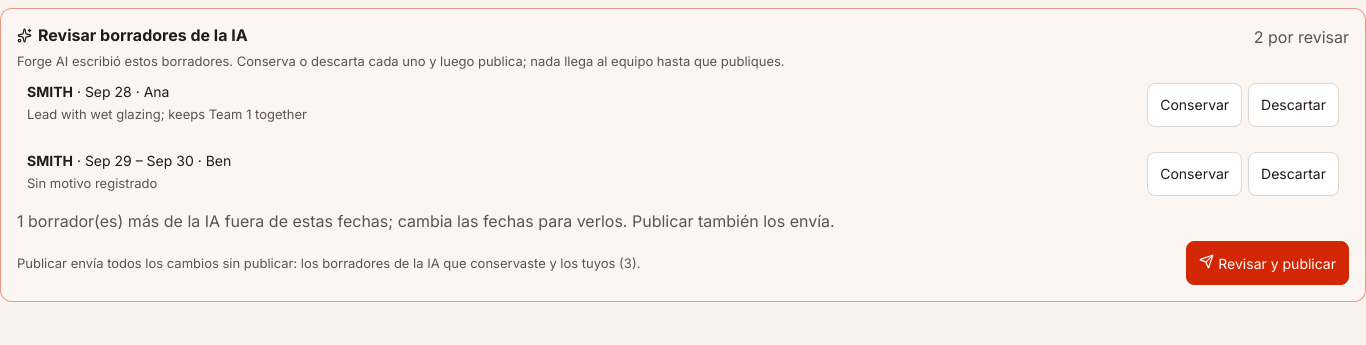
Test: the Review AI drafts card › reads in Spanish
This screenshot has width=1366, height=345.
Click the button "Descartar" in the row of "Sep 28": (1294, 104) 1248,82 -> 1339,126
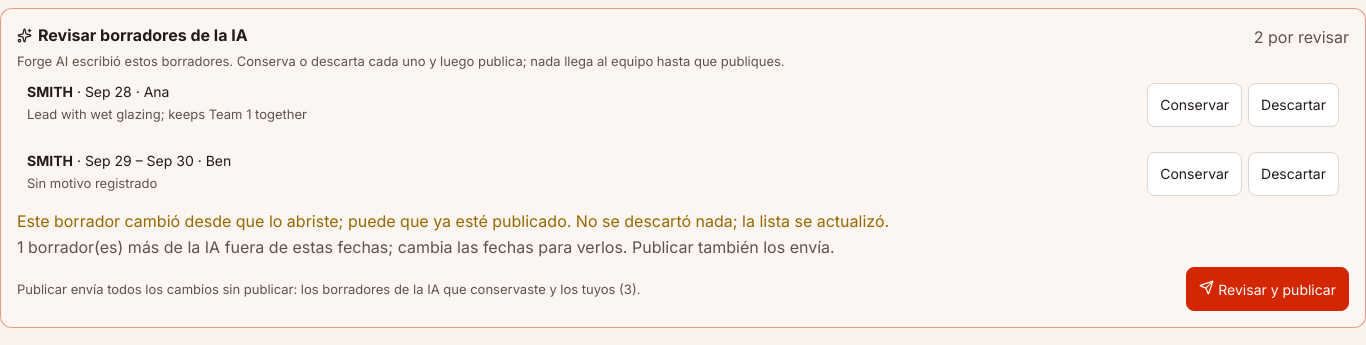
Expected: the text "1 borrador(es) más de la IA fuera de estas fechas" is shown, 17,236 -> 835,256
Now the message shows "Este borrador cambió desde que lo abriste", box 17,210 -> 889,230
